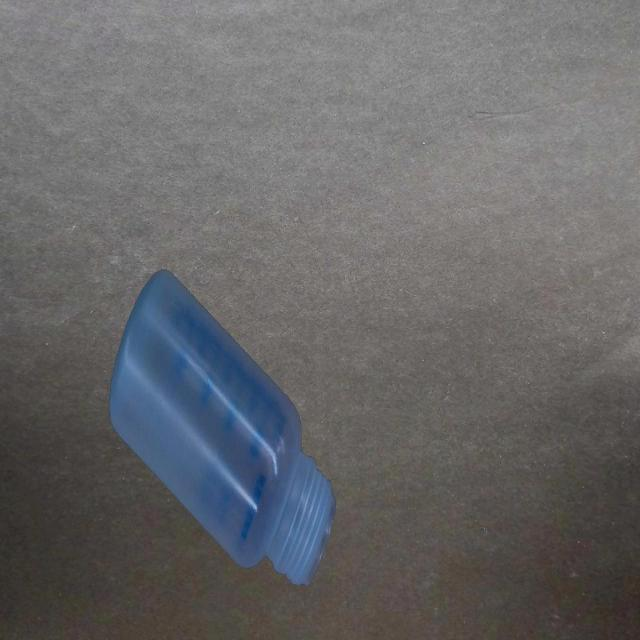bottle: (108, 265, 339, 589)
